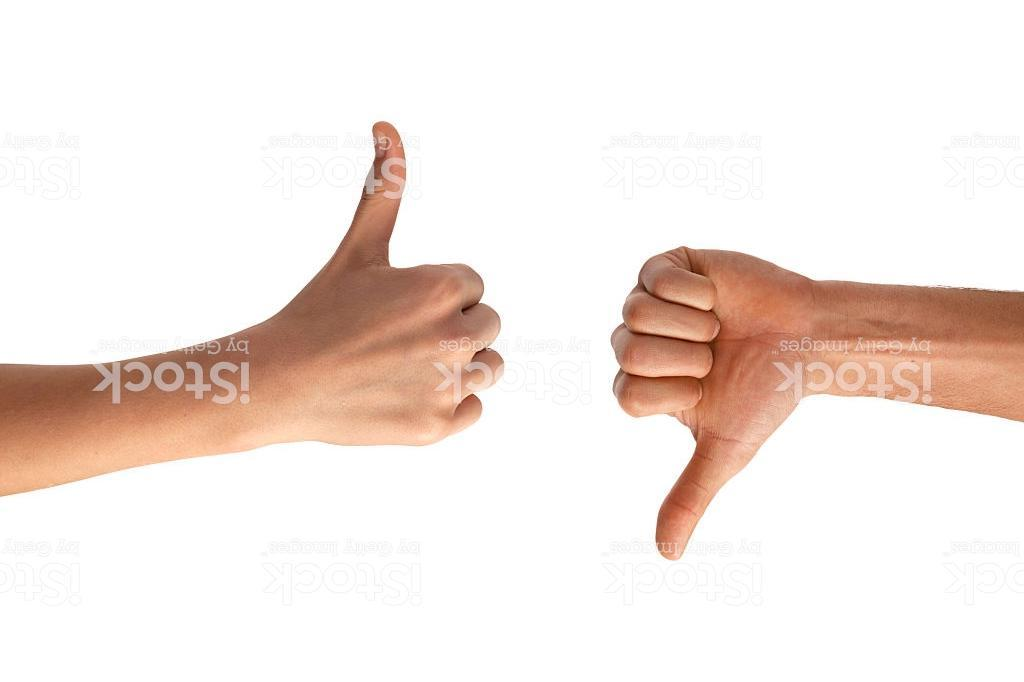thumbsdown: (608, 246, 810, 565)
